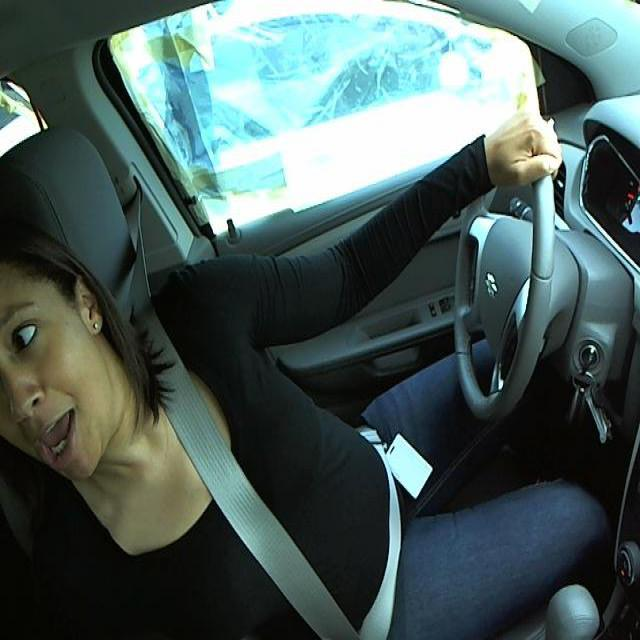seatbelt: (156, 406, 380, 638)
